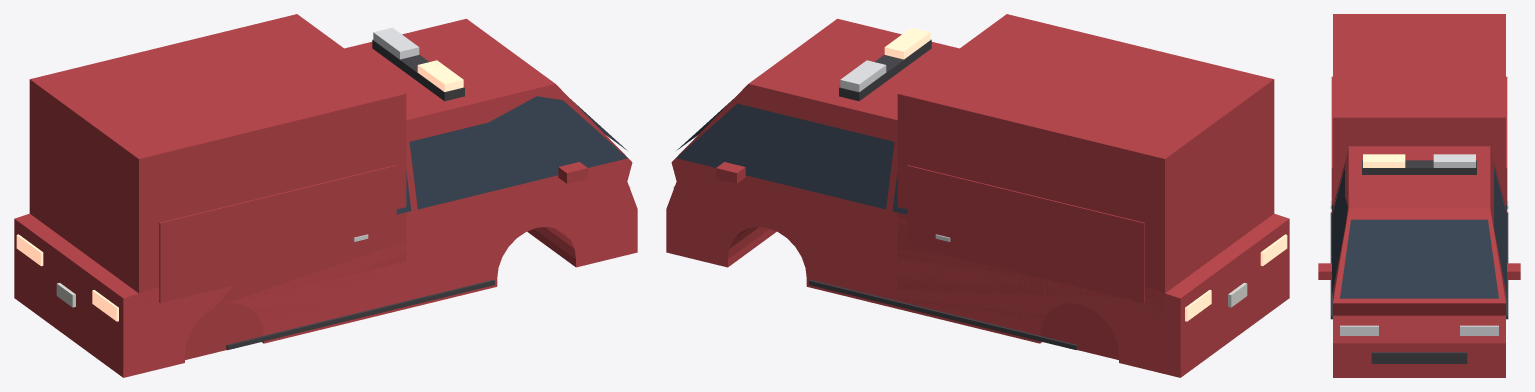
The model's file is SM_Veh_Ambulance.fbx.
3 renders of one model, left to right at view 1: azimuth 30°, elevation 25°; view 2: azimuth 150°, elevation 25°; view 3: azimuth 270°, elevation 25°, orthographic. The views are drawn at different scales.
Visible parts, largest first — view 1: SM_Veh_Ambulance; view 2: SM_Veh_Ambulance; view 3: SM_Veh_Ambulance.
Part boxes in pixels (x1,y1,x2,y2): SM_Veh_Ambulance: [14, 14, 637, 377]; SM_Veh_Ambulance: [666, 14, 1289, 377]; SM_Veh_Ambulance: [1318, 14, 1520, 377].
Size of the model in its own units: 567 by 240 by 224.
